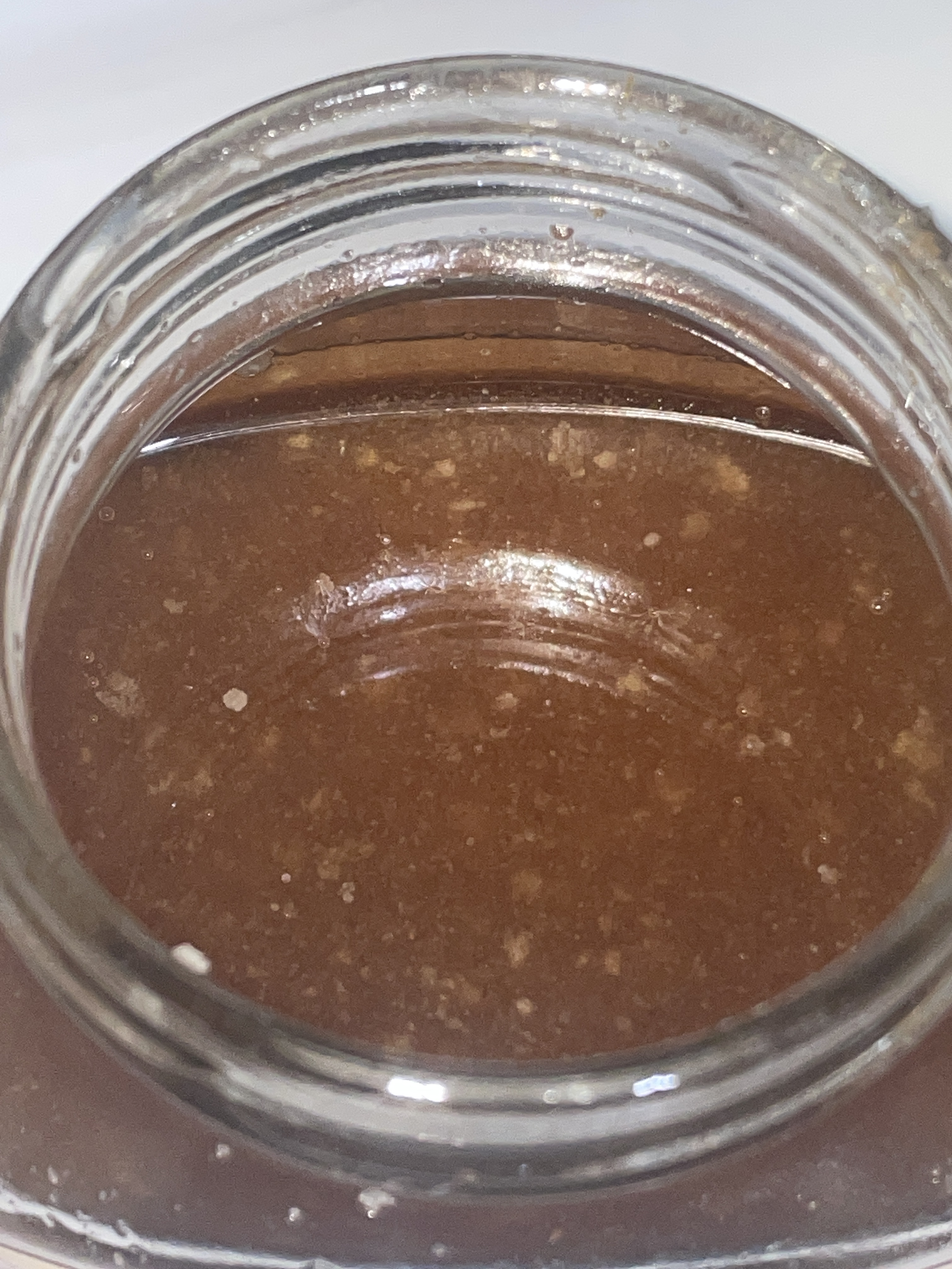non-reusable: (35, 283, 952, 1064)
